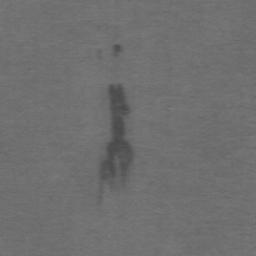Iron scale compression: (97, 44, 133, 205)
